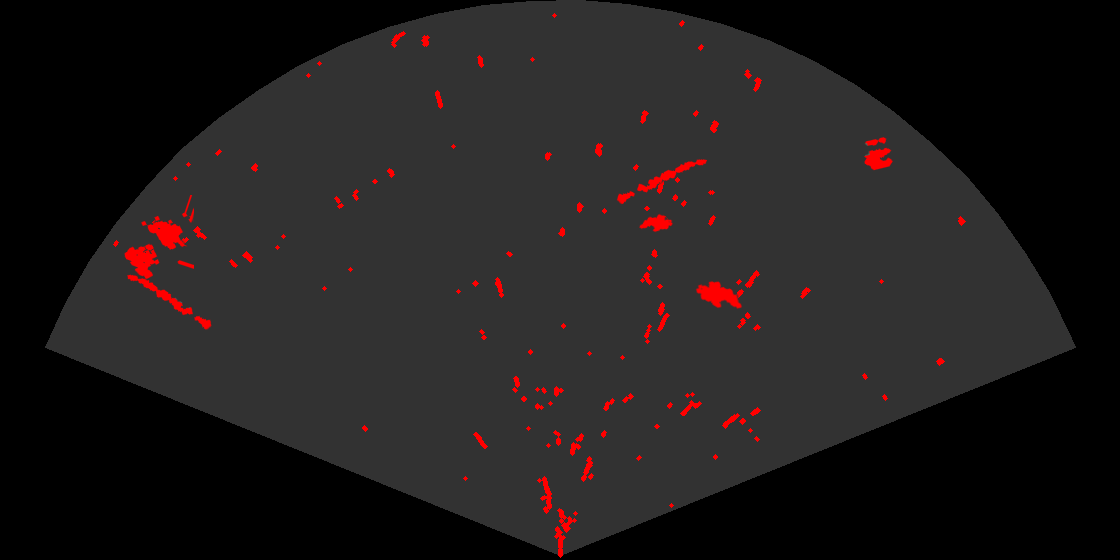AUV: (694, 279, 744, 310), (638, 212, 675, 234)
ball: (863, 136, 894, 172)
cage: (123, 195, 194, 281)
chain: (126, 273, 213, 331), (615, 158, 709, 206)
